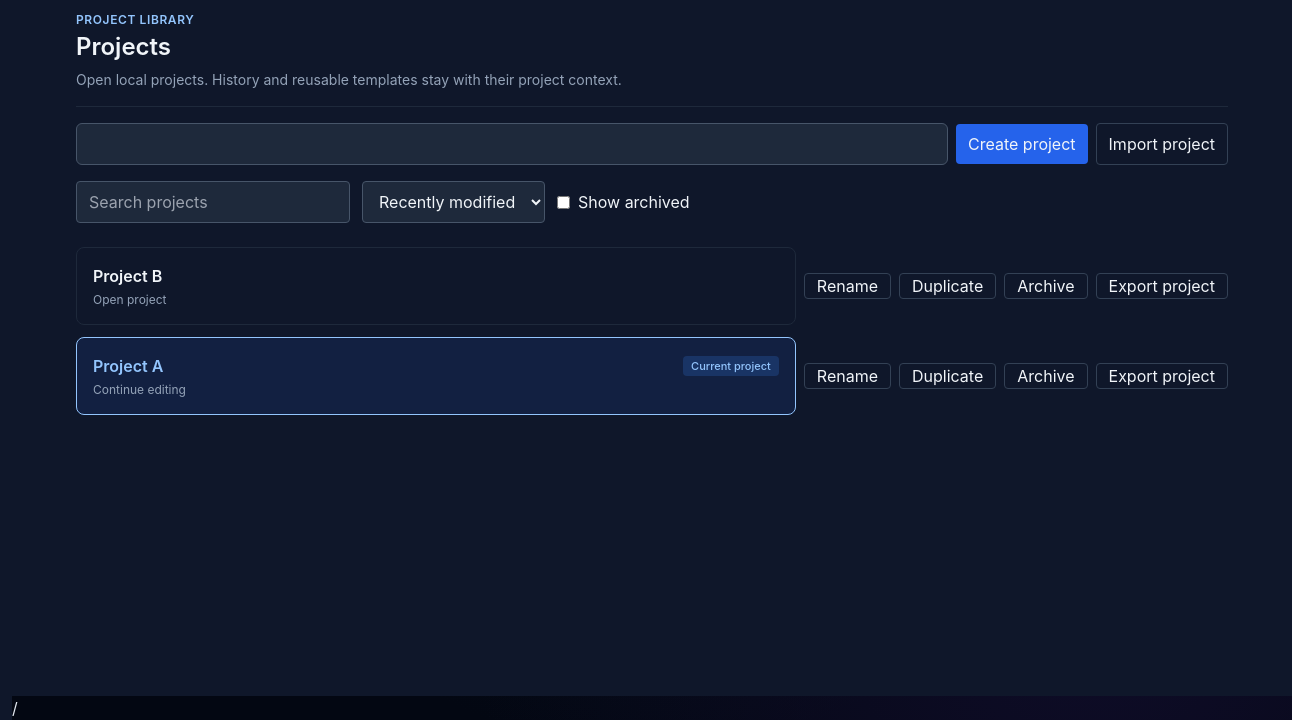
ProjectsPage › continues image-based editing without treating reference-only projects as timelines
(page scrolled)
Click the button "Project A Current project Continue editing" at (128, 366), box [76,337,796,415]
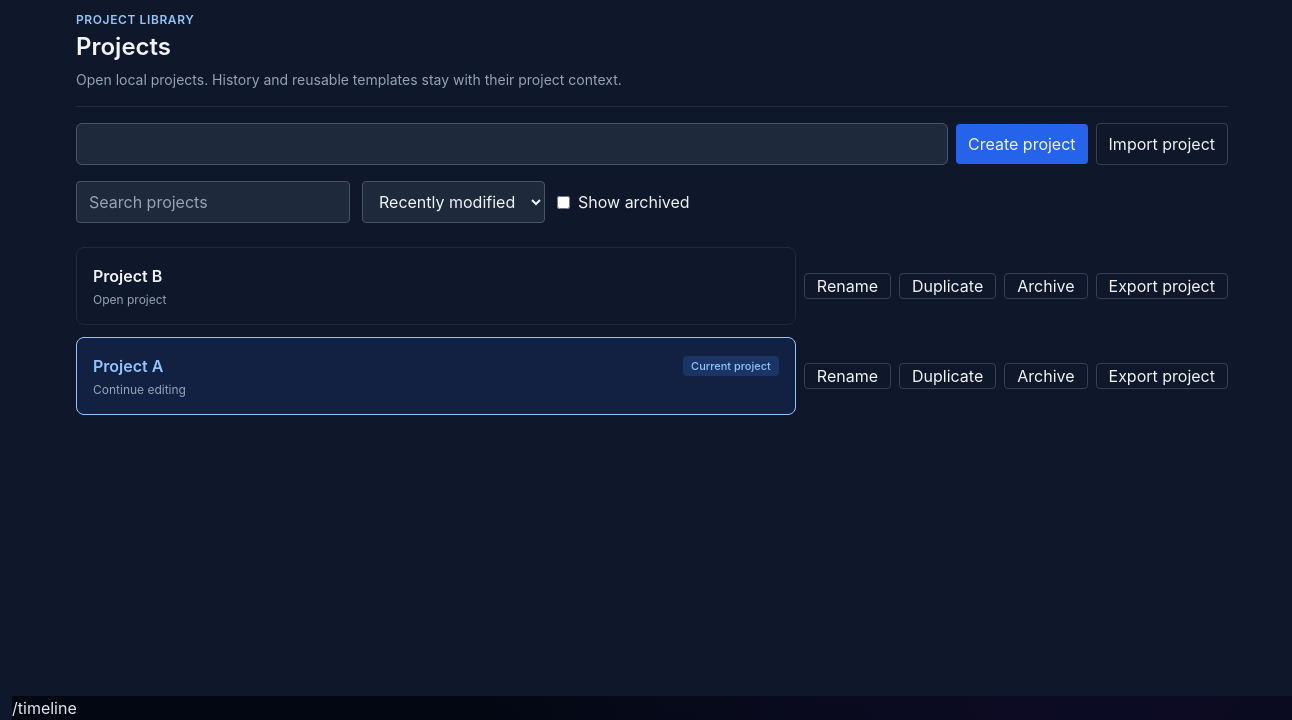
Now the text with test id "current-location" reads "/timeline", box [12,698,77,718]
